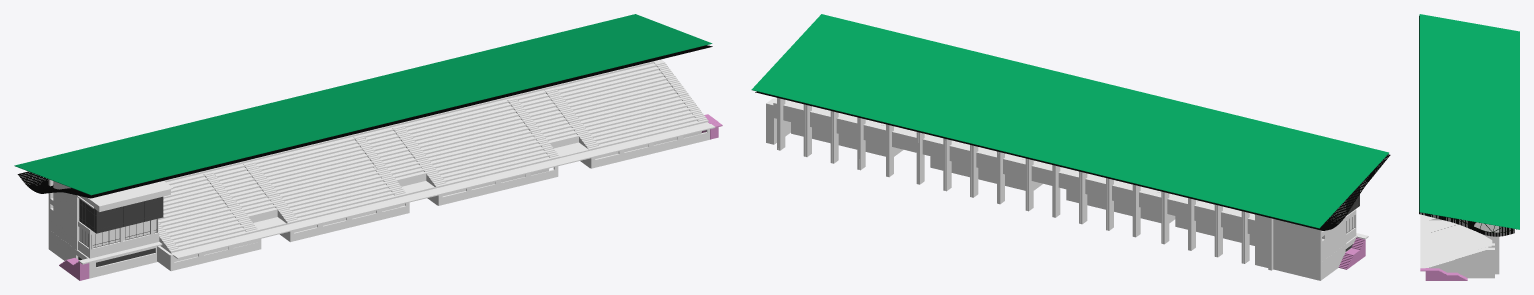
The model's file is Tribune.obj.
3 renders of one model, left to right at view 1: azimuth 30°, elevation 25°; view 2: azimuth 150°, elevation 25°; view 3: azimuth 270°, elevation 25°, orthographic. The views are drawn at different scales.
Parts seen in each view (by area): view 1: Layer_SANTEHNIKA, Object002, Object006, Object007, Object005, Layer_OSI, Object011, Layer_Markirovka, Object009, Object010, Object008, Object013 (+2 smaller); view 2: Layer_SANTEHNIKA, Object007, Object004, Object005, Layer_OSI, Object011, Object009, Object010, Object013; view 3: Layer_SANTEHNIKA, Object002, Object013, Layer_OSI, Object010, Object006, Object004, Object007, Box025, Layer_N__osi, Box035.
Boxes of the visible parts, box(x1,y1,x2,y2) form: Layer_SANTEHNIKA: box(14, 14, 712, 195); Object002: box(158, 92, 706, 258); Object006: box(163, 75, 675, 216); Object007: box(163, 61, 663, 197); Object005: box(48, 179, 173, 278); Layer_OSI: box(17, 45, 712, 198); Object011: box(157, 202, 409, 271); Layer_Markirovka: box(78, 196, 163, 267); Object009: box(416, 128, 566, 205); Object010: box(569, 94, 715, 168); Object008: box(158, 166, 405, 258); Object013: box(544, 59, 688, 124); Layer_SANTEHNIKA: box(751, 14, 1388, 228); Object007: box(773, 100, 1254, 235); Object004: box(777, 98, 1273, 270); Object005: box(1255, 201, 1368, 280); Layer_OSI: box(755, 91, 1390, 230); Object011: box(1066, 189, 1254, 245); Object009: box(930, 156, 1042, 190); Object010: box(791, 122, 903, 156); Object013: box(766, 98, 885, 144); Layer_SANTEHNIKA: box(1419, 14, 1519, 229); Object002: box(1420, 213, 1458, 265); Object013: box(1440, 220, 1494, 278); Layer_OSI: box(1419, 15, 1514, 236); Object010: box(1420, 222, 1470, 268); Object006: box(1458, 219, 1475, 255); Object004: box(1474, 222, 1499, 274); Object007: box(1475, 231, 1494, 250); Box025: box(1425, 268, 1439, 280); Layer_N__osi: box(1419, 47, 1514, 232); Box035: box(1447, 272, 1457, 280).
Size of the model in its own units: 6535 by 1001 by 1381.
